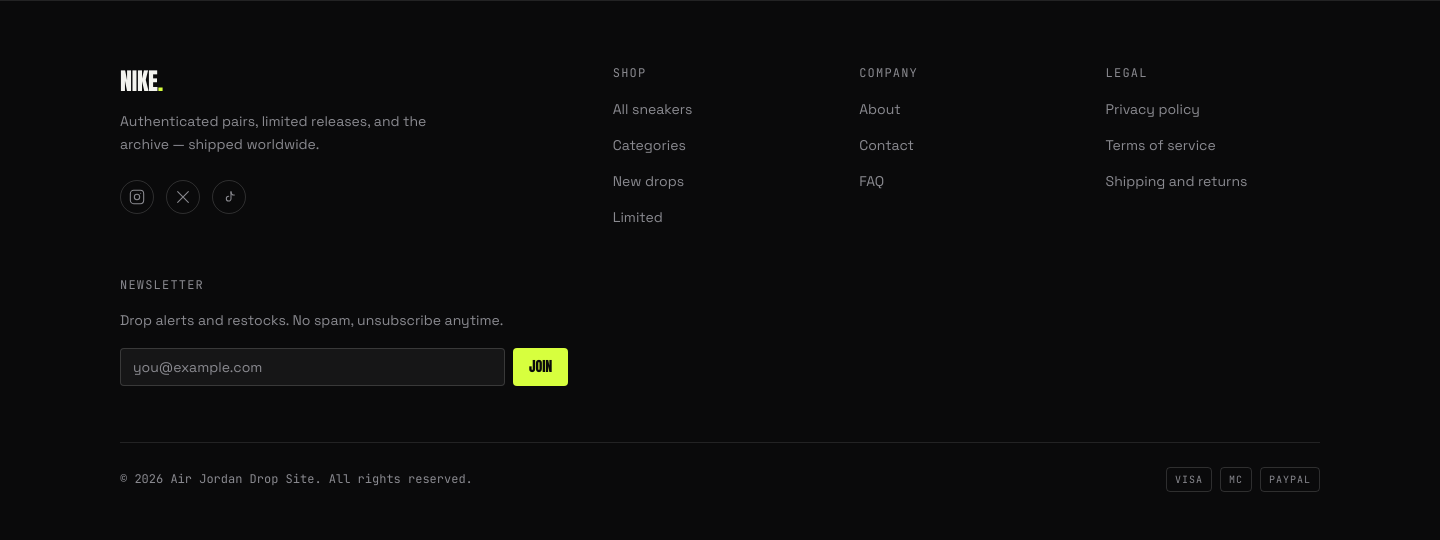
newsletter form — success › gives a distinct message for an address already on the list
The image size is (1440, 540).
Type "again@example.com" into the field named "Email address" at (313, 367), box [120,348,505,386]
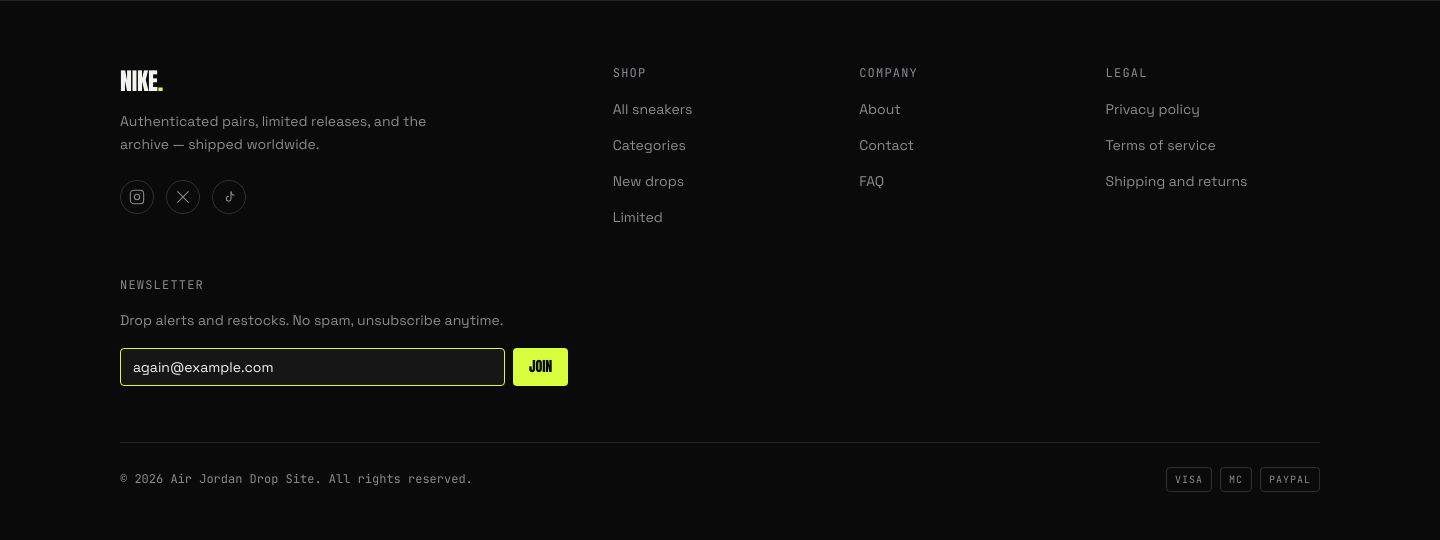
Click the button "Join" at (541, 367), box [513,348,568,386]
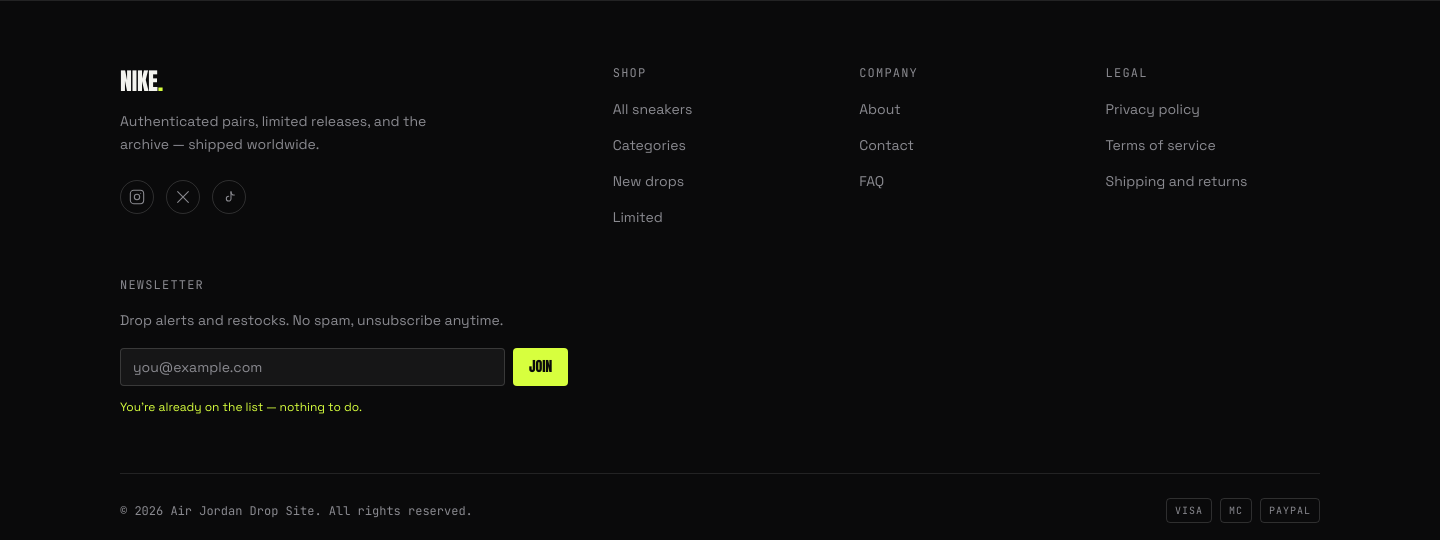
Expected: the message reads "You're already on the list — nothing to do.", [120,399,362,415]
